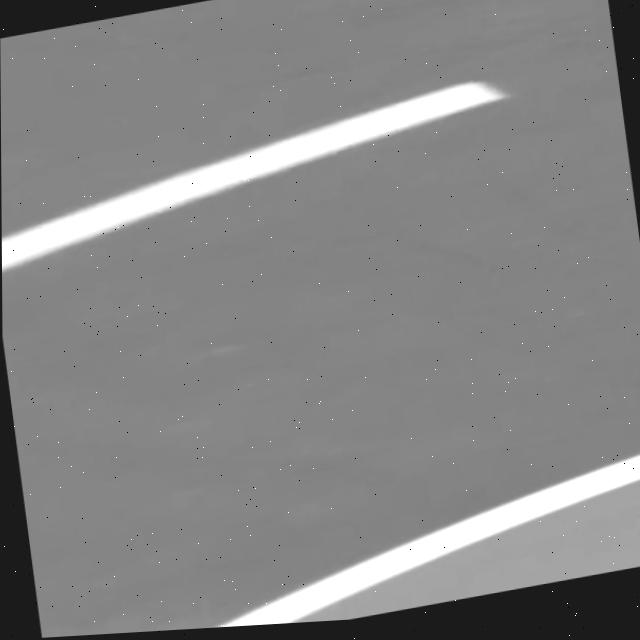center: (2, 81, 508, 272)
left: (214, 454, 640, 628)
